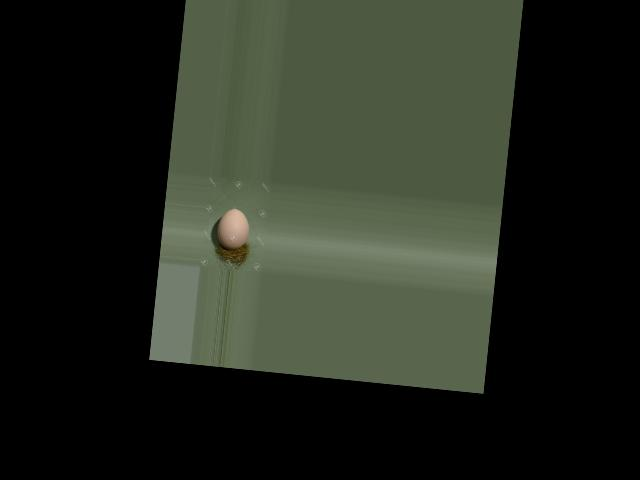egg: (215, 207, 250, 250)
